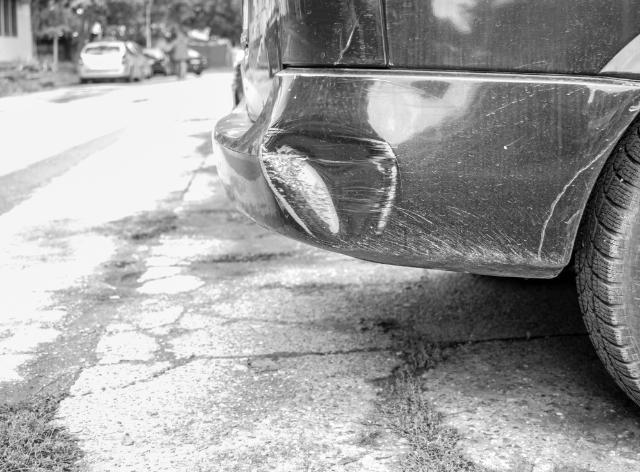Bumper: (242, 65, 523, 264)
